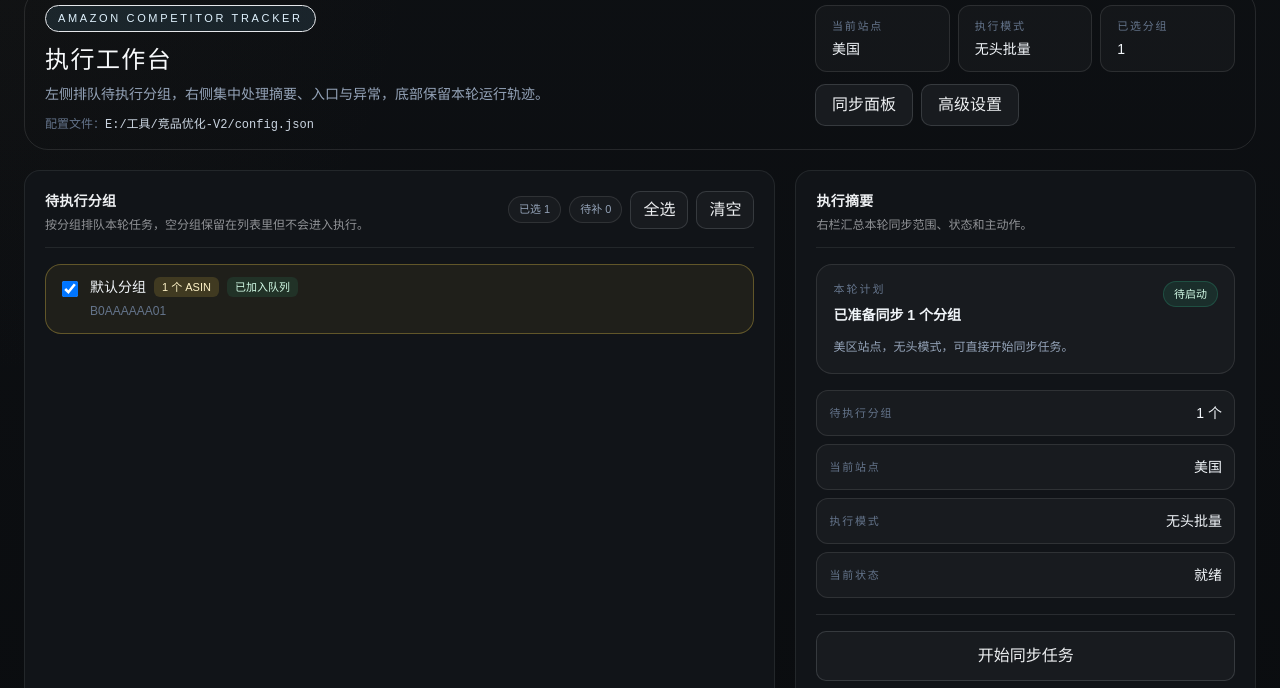
App command center home › 设置页保存配置失败时显示明确反馈
Click the tab "高级设置": (970, 104) [921,84,1019,126]
(page scrolled)
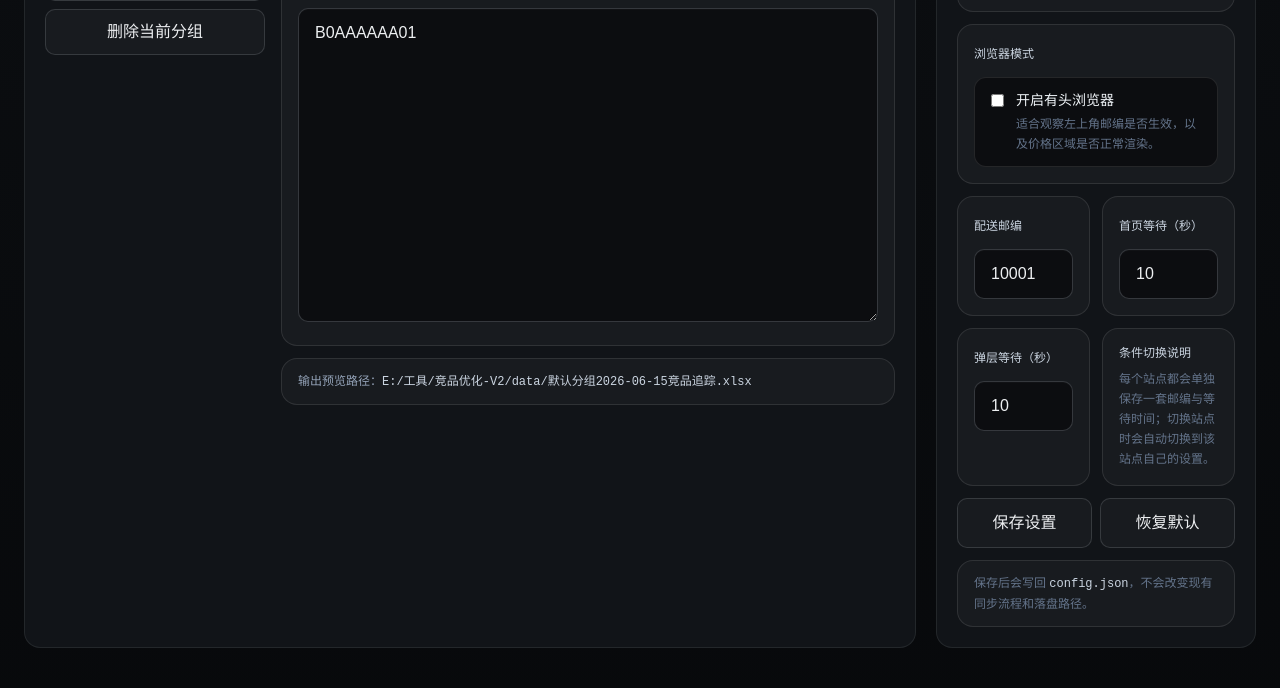
Click the button "保存设置": (1024, 523) [957,498,1092,548]
(page scrolled)
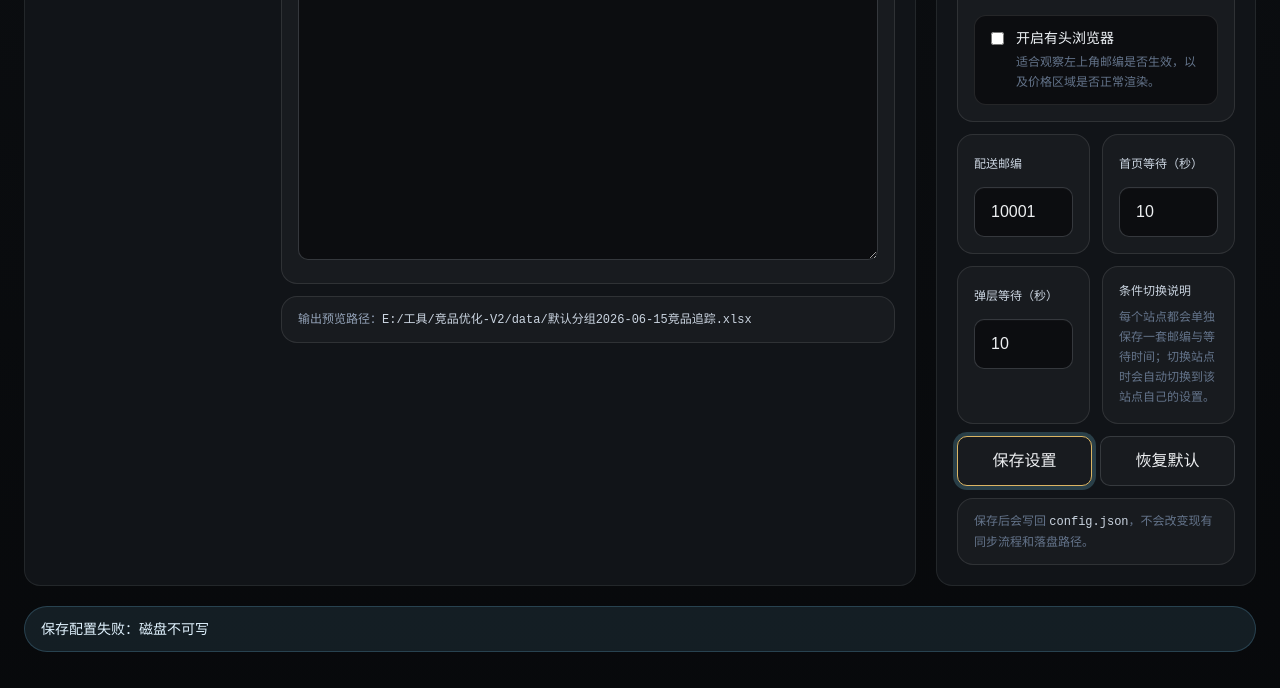
Check: the text "保存配置失败：磁盘不可写" is shown, box [24,606,1256,652]
